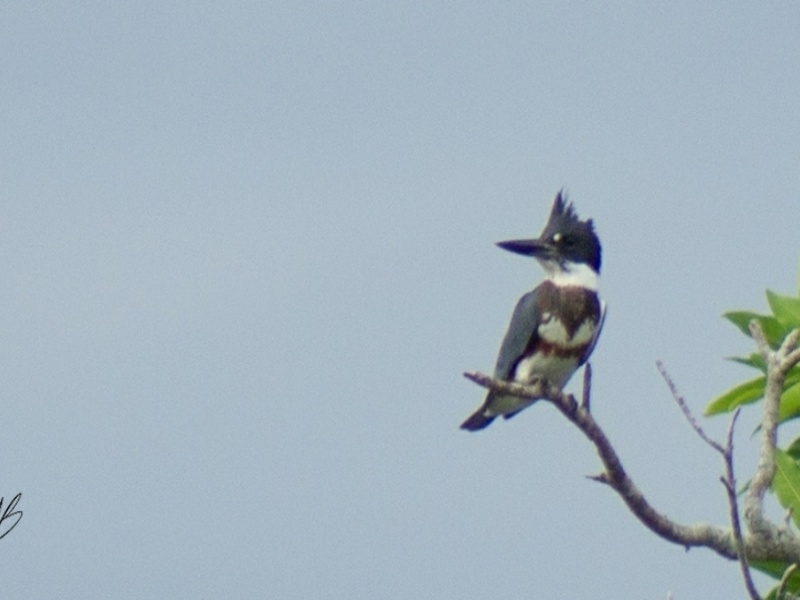kingfisher: (459, 186, 609, 435)
